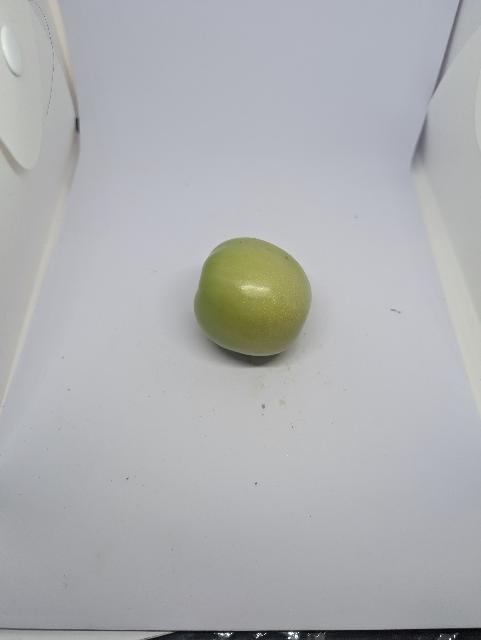green: (191, 235, 314, 359)
